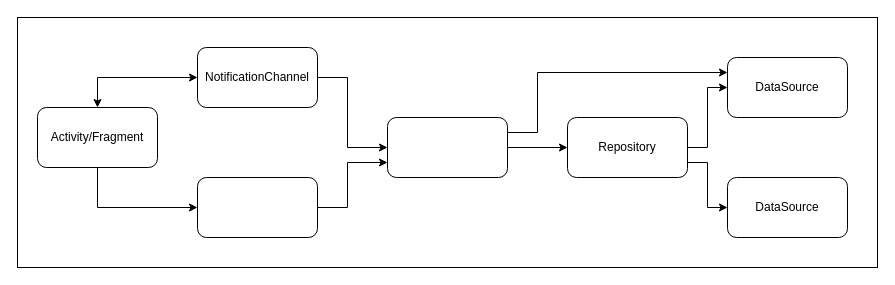
Image size: 895x285. Some labels were removed from this diagram. Here are the shapes that lost their labels. From the top down, the centre of each, then its label:
At pixel 447 147: "UseCase".
At pixel 257 207: "ViewModel".
